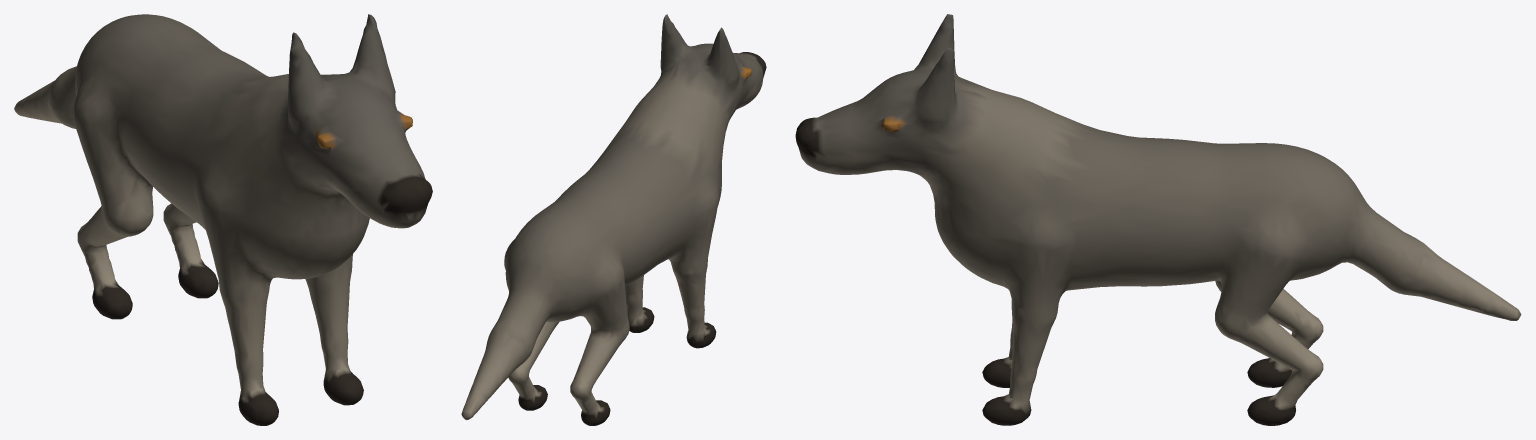
The model's file is wolf-near.glb.
3 views of the same model, side by side, from view 1: azimuth 30°, elevation 25°; view 2: azimuth 150°, elevation 25°; view 3: azimuth 270°, elevation 25° (orthographic). The views are drawn at different scales.
Parts seen in each view (by area): view 1: wolf-near; view 2: wolf-near; view 3: wolf-near.
Part boxes in pixels (box(x1,y1,x2,y2)): wolf-near: box(14, 14, 432, 425); wolf-near: box(461, 14, 766, 425); wolf-near: box(795, 14, 1521, 425).
Bounding box in the file's own units: 0.5839 × 1.47 × 2.58.
